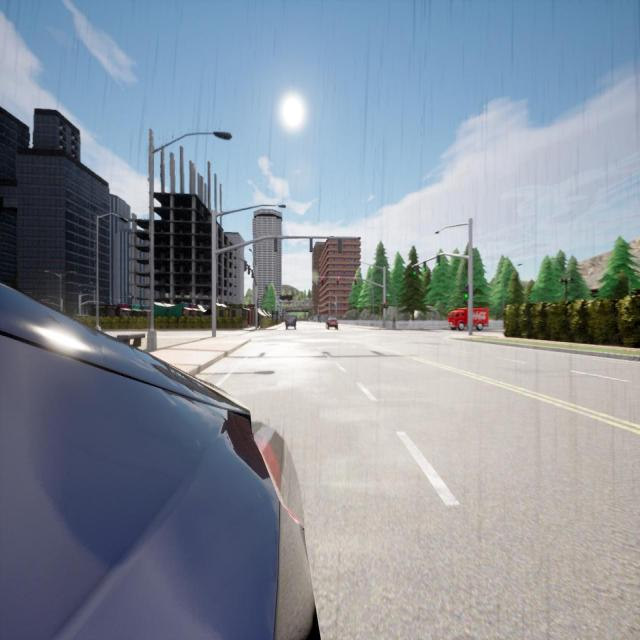Pedestrian: (392, 313, 396, 331)
Vehicle: (0, 284, 318, 638), (447, 308, 489, 331), (285, 314, 297, 330), (326, 316, 338, 331)
traffic_light: (464, 284, 469, 299), (338, 239, 342, 253), (274, 238, 277, 252), (437, 256, 440, 266), (310, 238, 312, 252), (413, 266, 416, 275), (423, 262, 426, 271), (321, 277, 324, 285), (336, 278, 339, 285), (354, 278, 357, 285), (244, 261, 246, 271), (257, 298, 259, 308), (248, 265, 250, 274), (252, 270, 254, 278), (384, 301, 386, 308)
